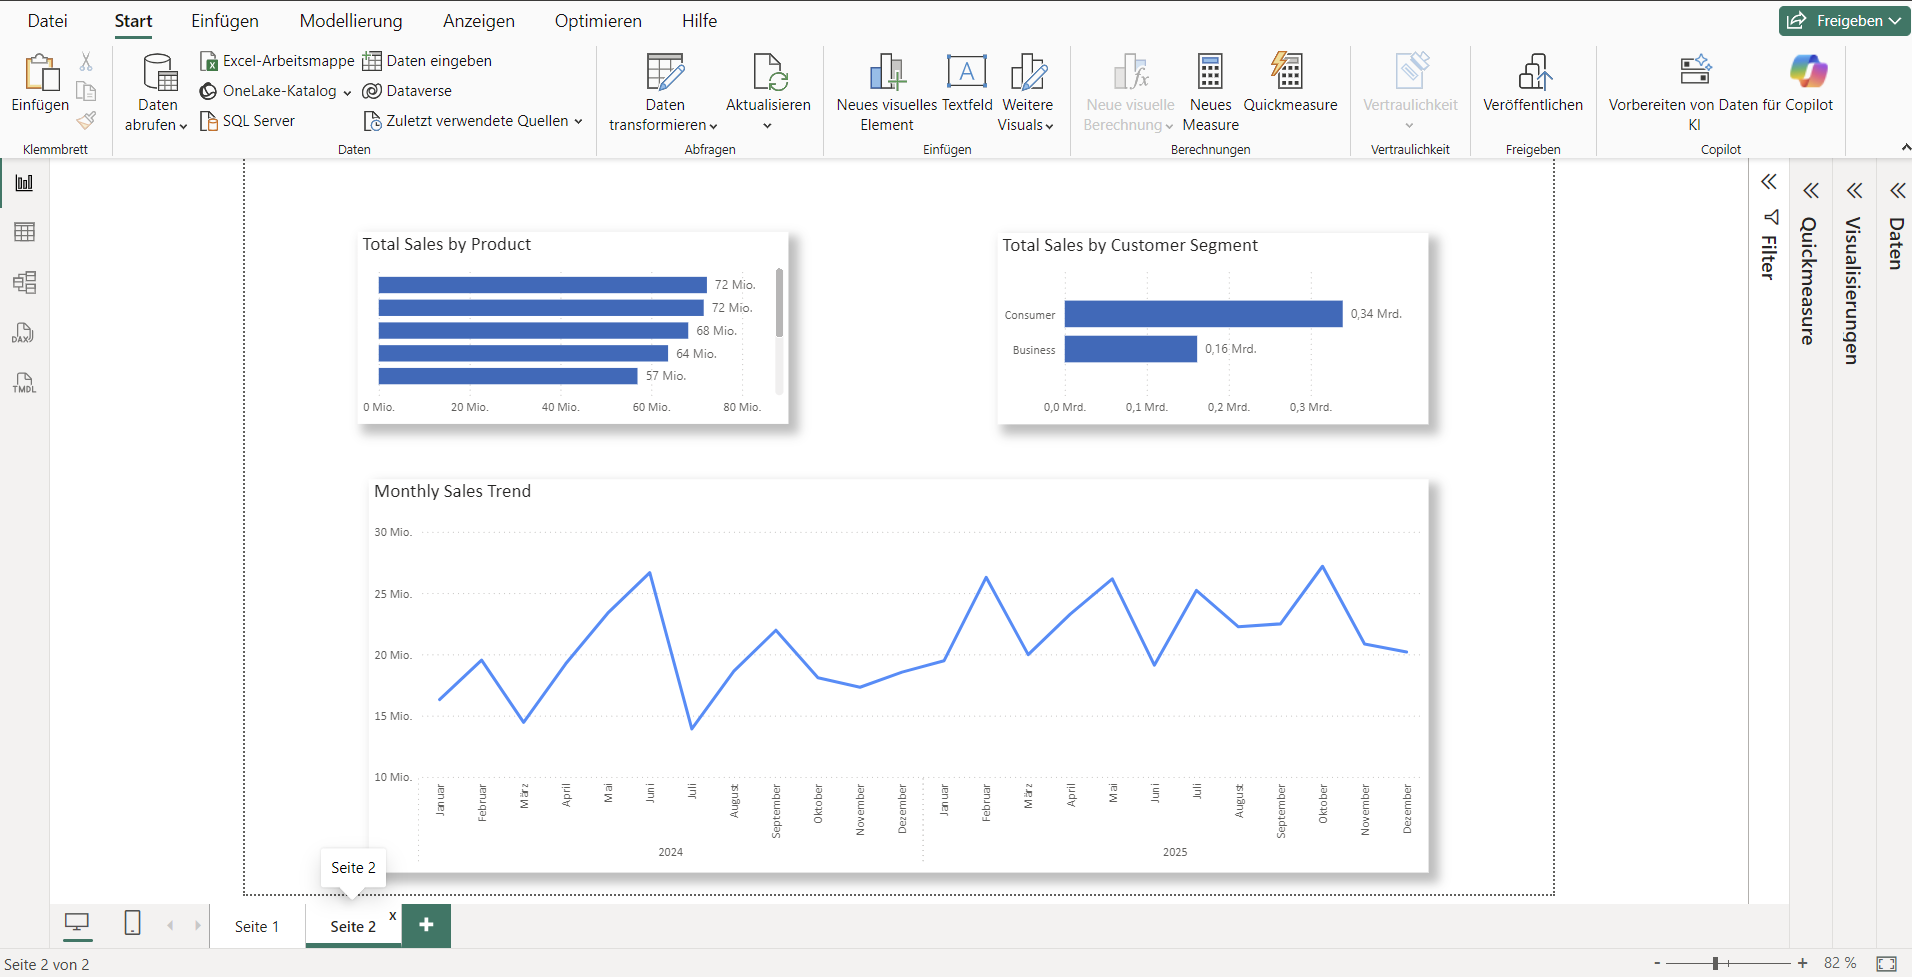

What the dashboard file says about the page in this screenshot:
{"tool":"powerbi","page":{"name":"Seite 2","canvas":[1280,720],"ordinal":1},"visuals":[{"type":"clusteredBarChart","title":"Total Sales by Product","fields":{"Category":["DIMPRODUCT.PRODUCT"],"Y":["FACT_SALES.Total Sales"]},"box":[109.8,72.7,421.9,188.2],"z":0},{"type":"clusteredBarChart","title":"Total Sales by Customer Segment","fields":{"Category":["DIMCUSTOMER.CUSTOMERSEGMENT"],"Y":["FACT_SALES.Total Sales"]},"box":[736.1,73.4,421.9,187.1],"z":1000},{"type":"lineChart","title":"Monthly Sales Trend ","fields":{"Y":["FACT_SALES.Total Sales"],"Category":["DIMDATE.Year","DIMDATE.Month"]},"box":[121.1,314.3,1037,385.2],"z":2000}]}

Visuals, with their boxes on the page's 1280x720 design canvas (x1, y1, x2, y2). These are canvas units, not pixel positions in the 1912x977 screenshot, which may show the page scaled, cropped or inside an application window:
"Total Sales by Product" clusteredBarChart: rect(110, 73, 532, 261)
"Total Sales by Customer Segment" clusteredBarChart: rect(736, 73, 1158, 260)
"Monthly Sales Trend " lineChart: rect(121, 314, 1158, 700)
